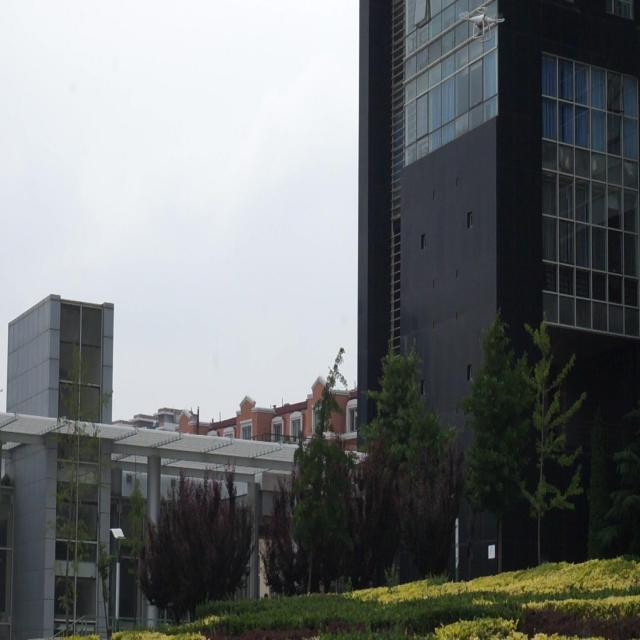UAV: (459, 7, 505, 43)
